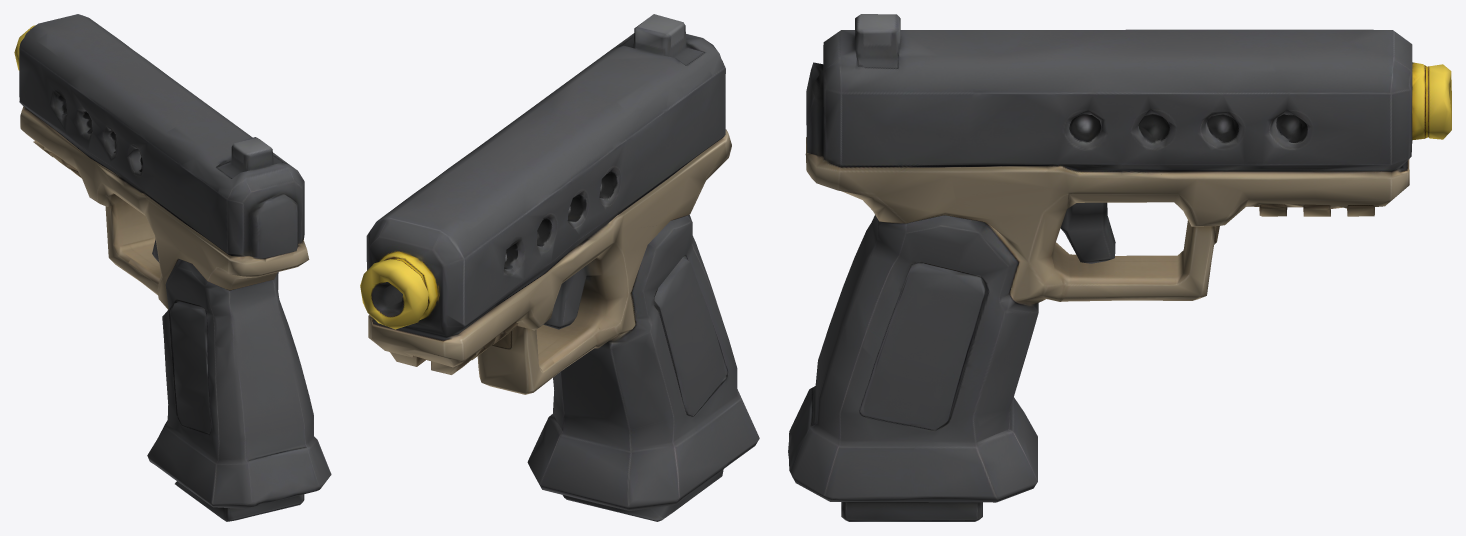
File: hawk50_tripo_raw.glb
The picture shows the model from 3 angles, left to right: view 1: azimuth 30°, elevation 25°; view 2: azimuth 150°, elevation 25°; view 3: azimuth 270°, elevation 25°; orthographic projection. The views are drawn at different scales.
Visible parts, largest first — view 1: tripo_node_829866ed-75d0-4a6b-b083-0b1892286d01; view 2: tripo_node_829866ed-75d0-4a6b-b083-0b1892286d01; view 3: tripo_node_829866ed-75d0-4a6b-b083-0b1892286d01.
Boxes of the visible parts, left/top/right/bottom form: tripo_node_829866ed-75d0-4a6b-b083-0b1892286d01: left=14, top=14, right=331, bottom=521; tripo_node_829866ed-75d0-4a6b-b083-0b1892286d01: left=360, top=14, right=759, bottom=521; tripo_node_829866ed-75d0-4a6b-b083-0b1892286d01: left=788, top=14, right=1451, bottom=521.
Bounding box in the file's own units: 0.2781 × 0.791 × 1.
Materials: 1 (1 with a texture image).
